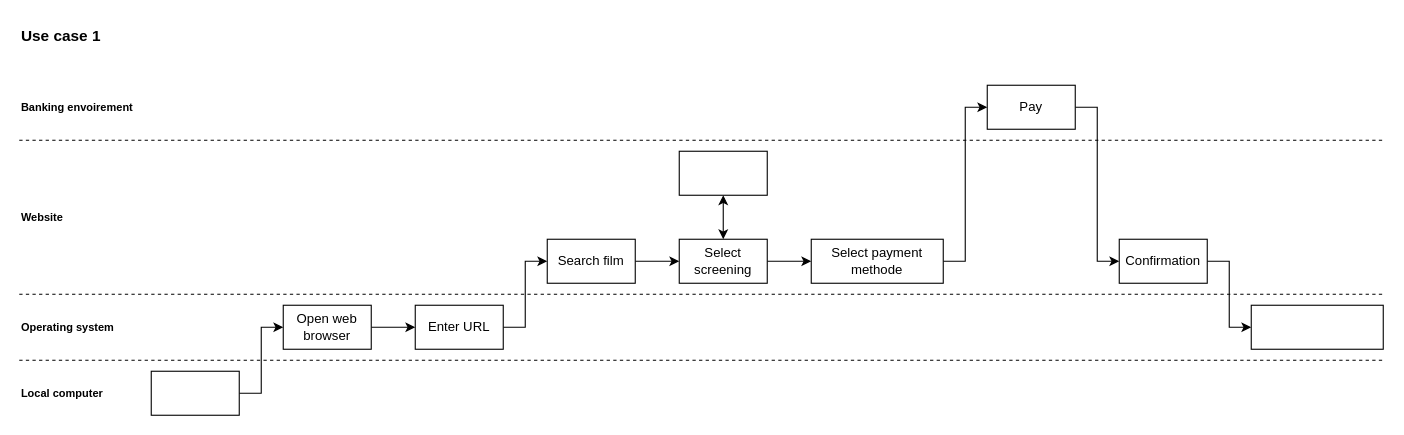
Image size: 1404x435. Some labels were removed from this diagram. Each missing label, with the box of its shape:
Add snacks if wanted: (678, 150, 767, 195)
Confirmation/tickets email: (1250, 304, 1383, 349)
Start PC: (150, 370, 239, 415)
